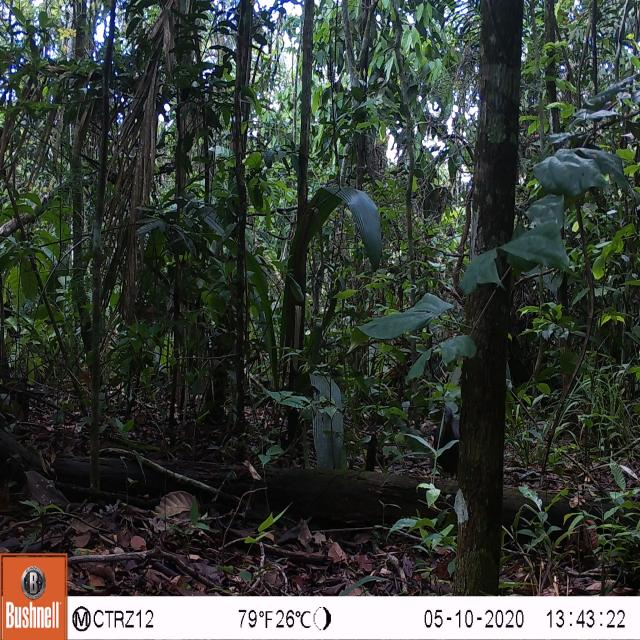Spixs Guan: (422, 402, 469, 476)
